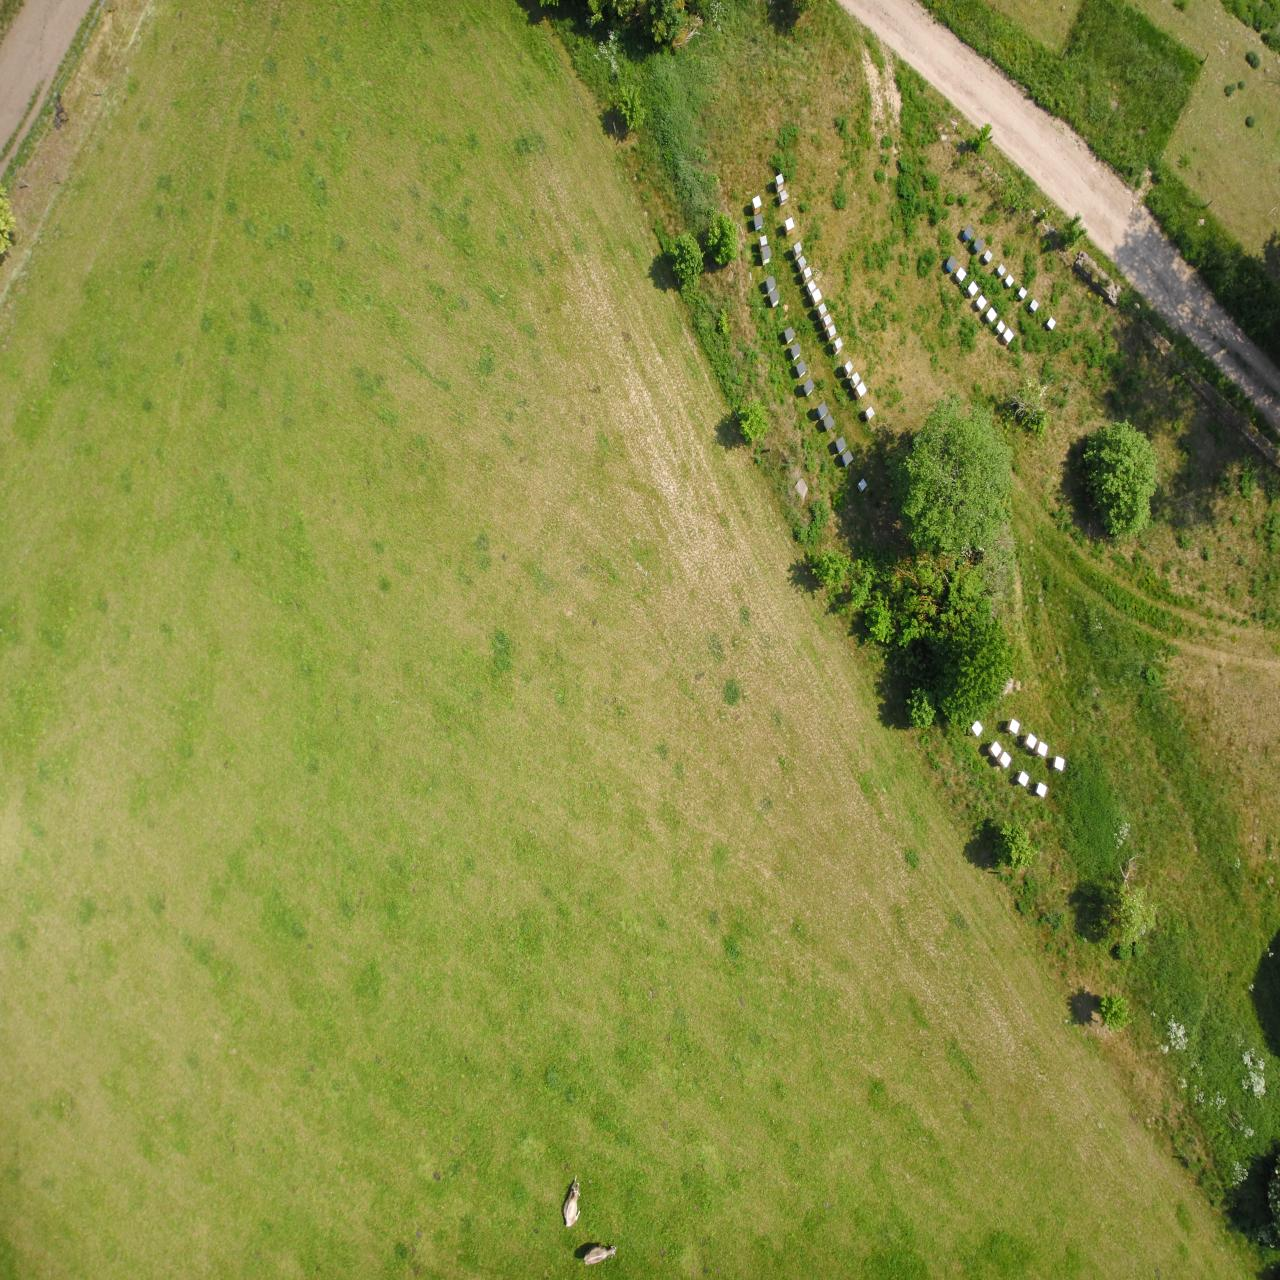cow: (558, 1175, 584, 1234), (580, 1238, 622, 1274)
